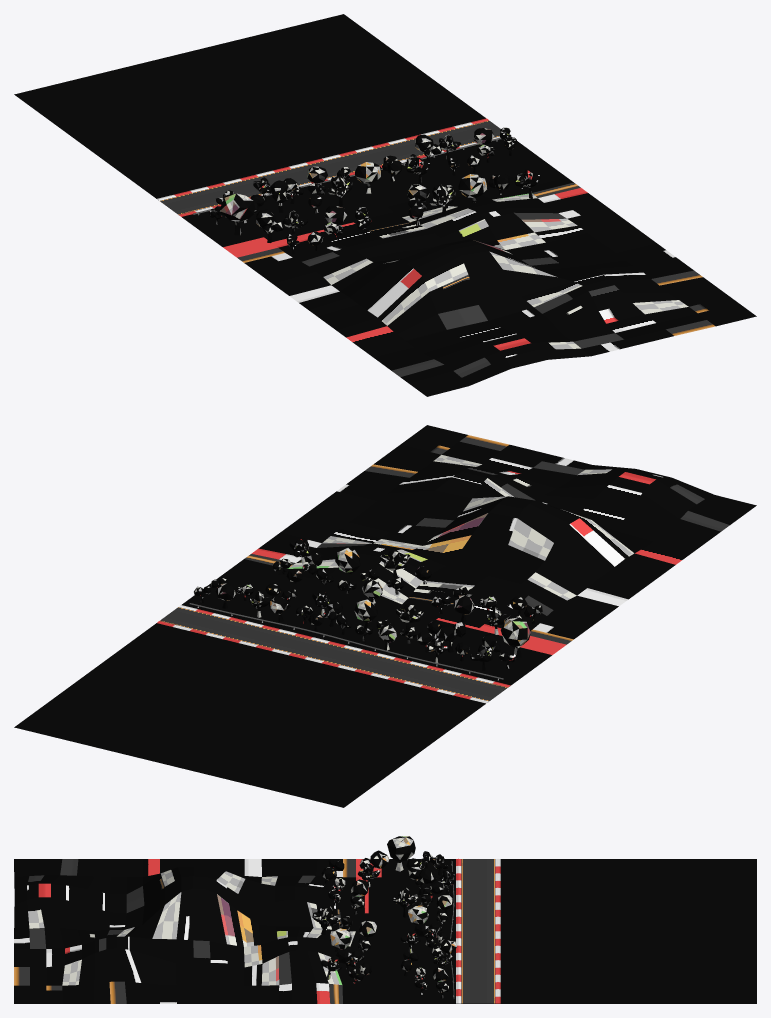
The model's file is IntroScene V2 Corrected Trees Glitch.fbx.
The picture shows the model from 3 angles, top to bottom: view 1: azimuth 30°, elevation 25°; view 2: azimuth 150°, elevation 25°; view 3: azimuth 270°, elevation 25°; orthographic projection. The views are drawn at different scales.
Visible parts, largest first — view 1: Grass, TRack, TreeCluster2B, TreeCluster2A, TreeCluster3, TreeCluster1B, TreeCluster1A; view 2: Grass, TRack, TreeCluster2B, TreeCluster2A, TreeCluster3, TreeCluster1B, TreeCluster1A; view 3: Grass, TRack, TreeCluster2B, TreeCluster3, TreeCluster2A, TreeCluster1B, TreeCluster1A.
Boxes of the visible parts, x1,y1,x2,y2 form: Grass: (14,14,756,396); TRack: (157,118,507,216); TreeCluster2B: (407,169,540,225); TreeCluster2A: (307,154,429,213); TreeCluster3: (209,177,303,235); TreeCluster1B: (256,206,371,253); TreeCluster1A: (415,127,516,175); Grass: (14,425,756,807); TRack: (157,603,510,703); TreeCluster2B: (273,539,431,603); TreeCluster2A: (296,591,441,650); TreeCluster3: (417,617,530,670); TreeCluster1B: (431,587,542,634); TreeCluster1A: (194,578,297,622); Grass: (14,859,756,1003); TRack: (450,858,500,1003); TreeCluster2B: (312,906,376,983); TreeCluster3: (387,836,455,902); TreeCluster2A: (392,888,452,953); TreeCluster1B: (321,850,389,914); TreeCluster1A: (401,938,456,998).
Size of the model in its own units: 20000 by 2780 by 43388.
